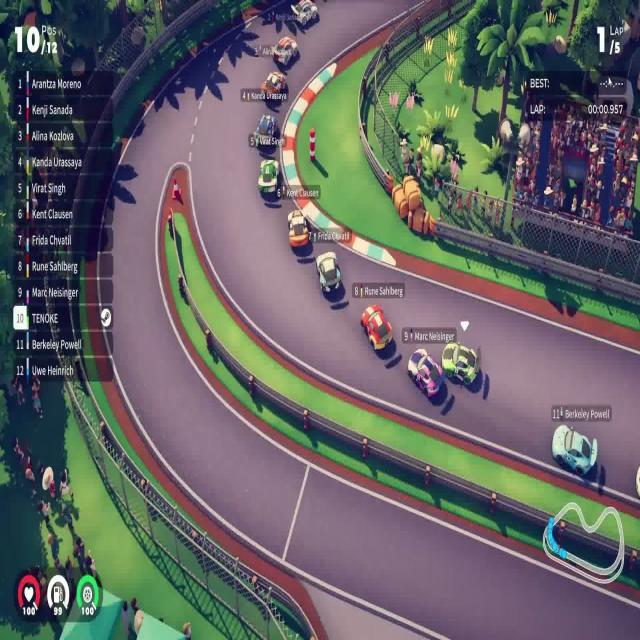car: (551, 422, 598, 478), (407, 346, 444, 398), (441, 340, 479, 387), (360, 302, 393, 352), (315, 250, 342, 296), (257, 158, 282, 201), (250, 113, 278, 150), (287, 209, 310, 248), (289, 0, 319, 28), (261, 70, 288, 101), (272, 36, 298, 67)
